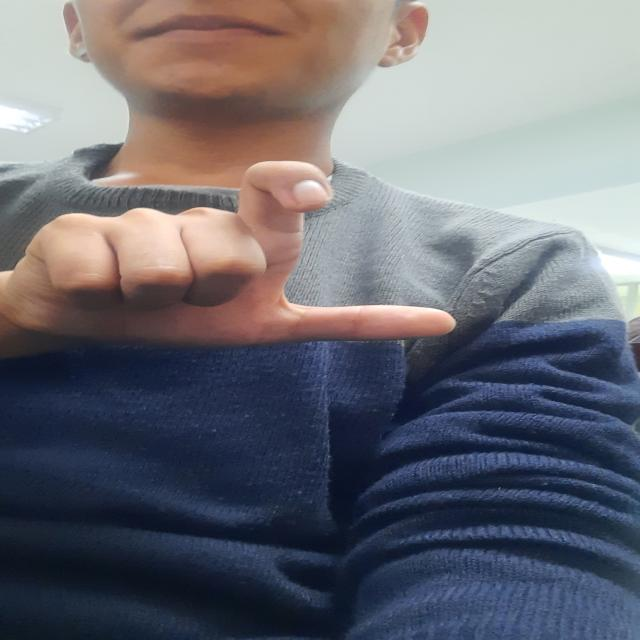G: (0, 149, 481, 355)
